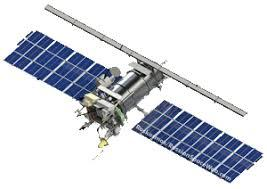antenna: (98, 129, 114, 149), (78, 117, 95, 132), (109, 66, 122, 77)
body: (84, 58, 164, 131)
solar: (131, 99, 264, 184), (3, 29, 123, 107)
